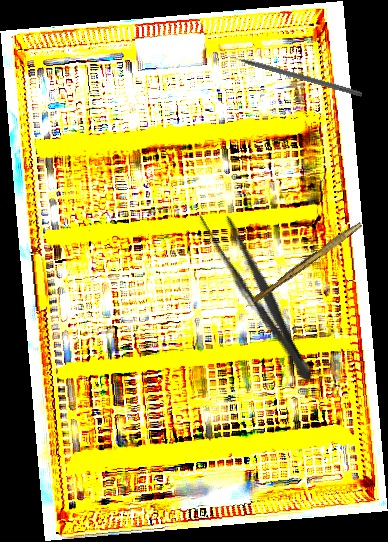Dressing Forceps: (193, 200, 324, 390)
Hook Surgical: (220, 50, 364, 97)
Scalpel Handle: (251, 218, 363, 306)
